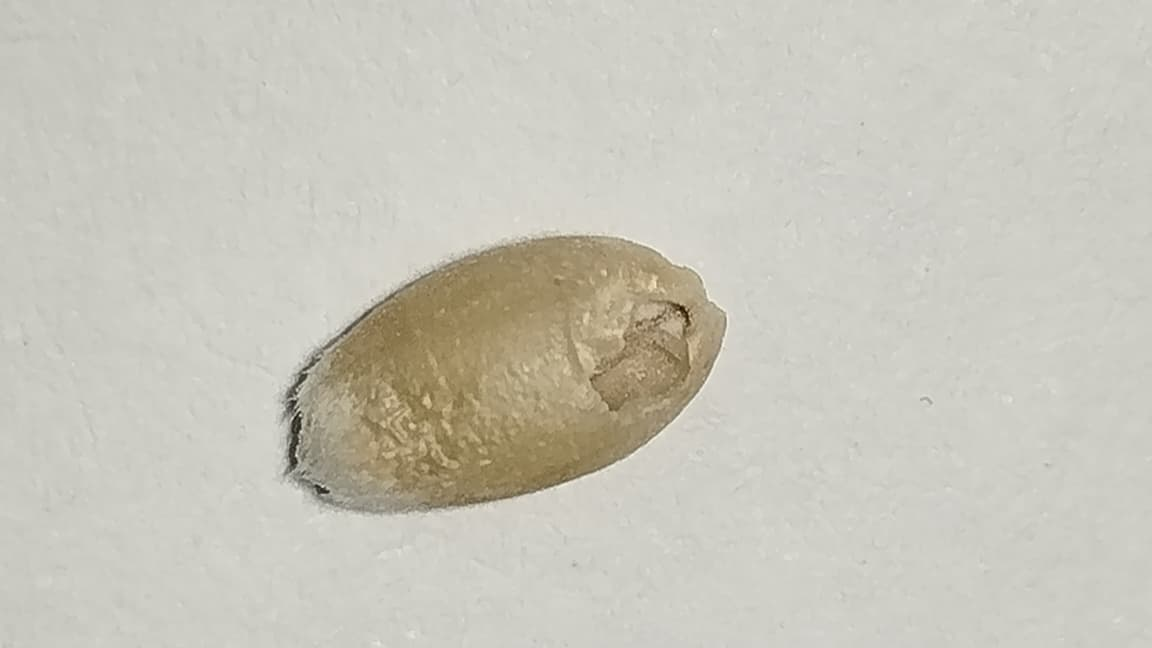damage: (290, 236, 725, 511)
insectdamage: (566, 265, 704, 442)
